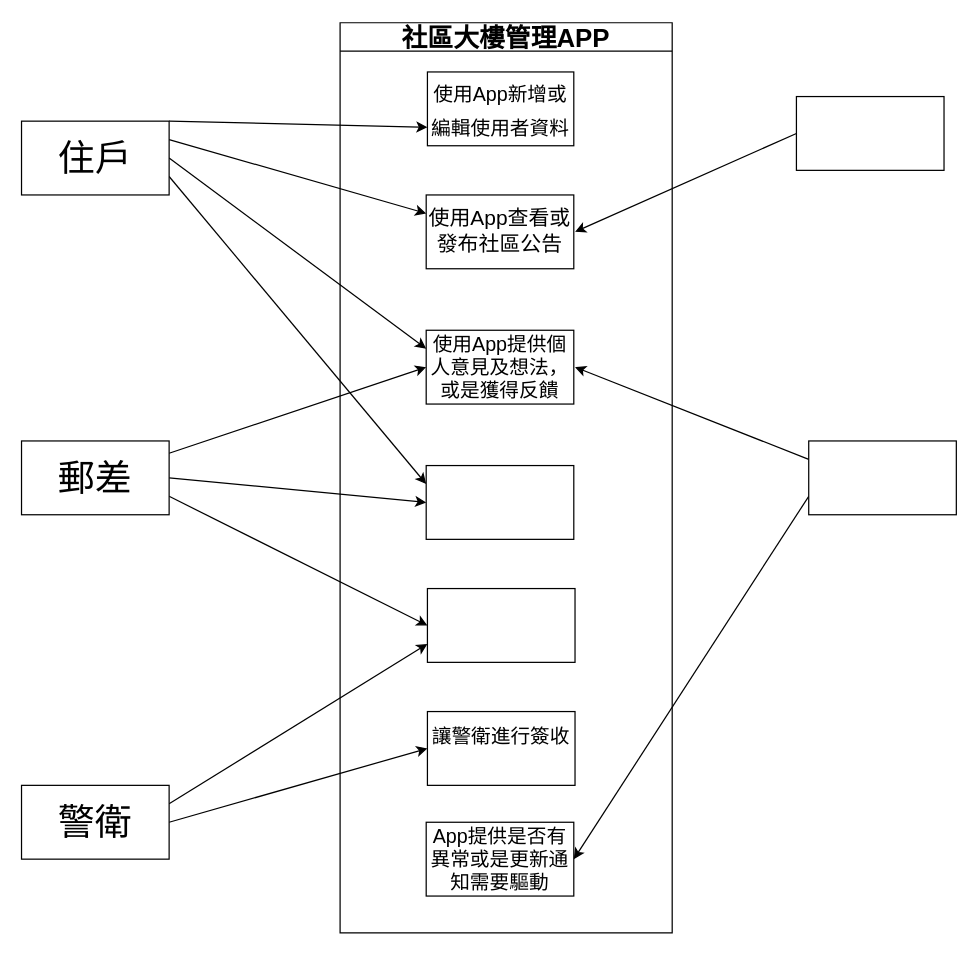
Image size: 978x954. Some labels were removed from this diagram. Each missing label, with the box of its shape:
APP開發員: (807, 440, 956, 515)
使用App查看包裹是否送達: (425, 464, 574, 539)
使用App查看收件時間與住戶位置: (426, 587, 575, 662)
委員: (795, 95, 944, 170)
